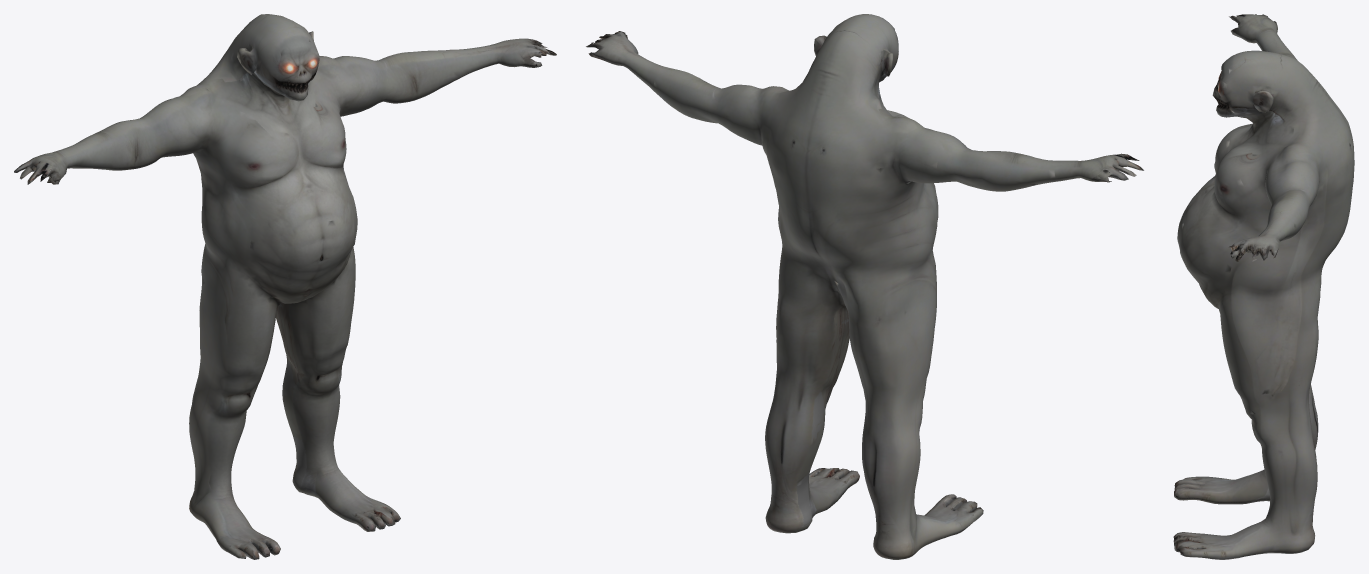
The model's file is A_creepy_humanoid_mon_0420194529_texture.fbx.
3 renders of one model, left to right at view 1: azimuth 30°, elevation 25°; view 2: azimuth 150°, elevation 25°; view 3: azimuth 270°, elevation 25°, orthographic. The views are drawn at different scales.
Parts seen in each view (by area): view 1: input; view 2: input; view 3: input.
Boxes of the visible parts, x1,y1,x2,y2 form: input: (14,14,556,559); input: (586,14,1143,559); input: (1173,14,1354,559).
Bounding box in the file's own units: 1120 × 1000 × 348.
Materials: 1 (1 with a texture image).
